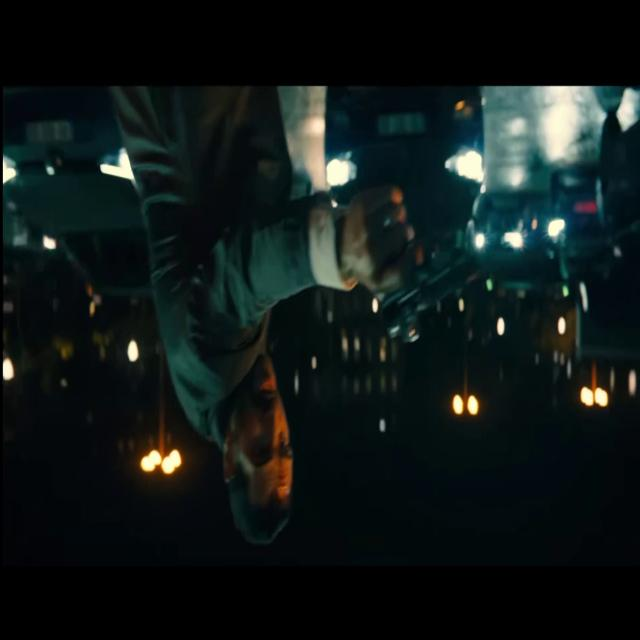weapons: (355, 165, 483, 352)
